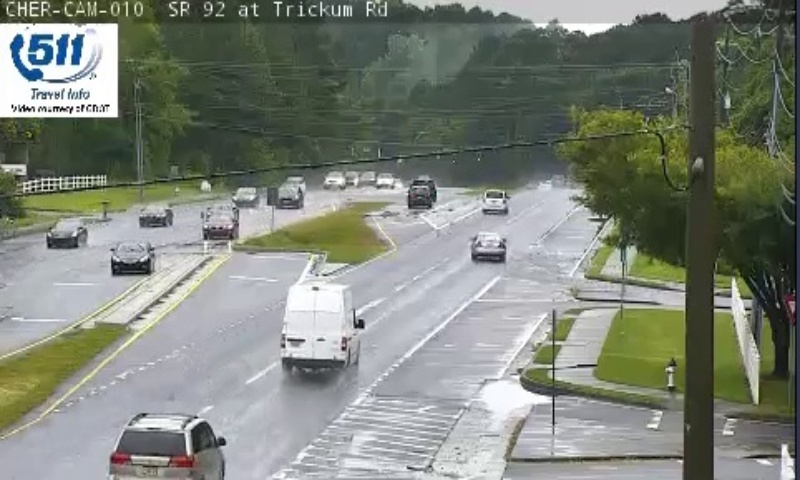car: (106, 413, 227, 480), (471, 232, 507, 261), (482, 189, 507, 212)
van: (280, 282, 360, 367)
